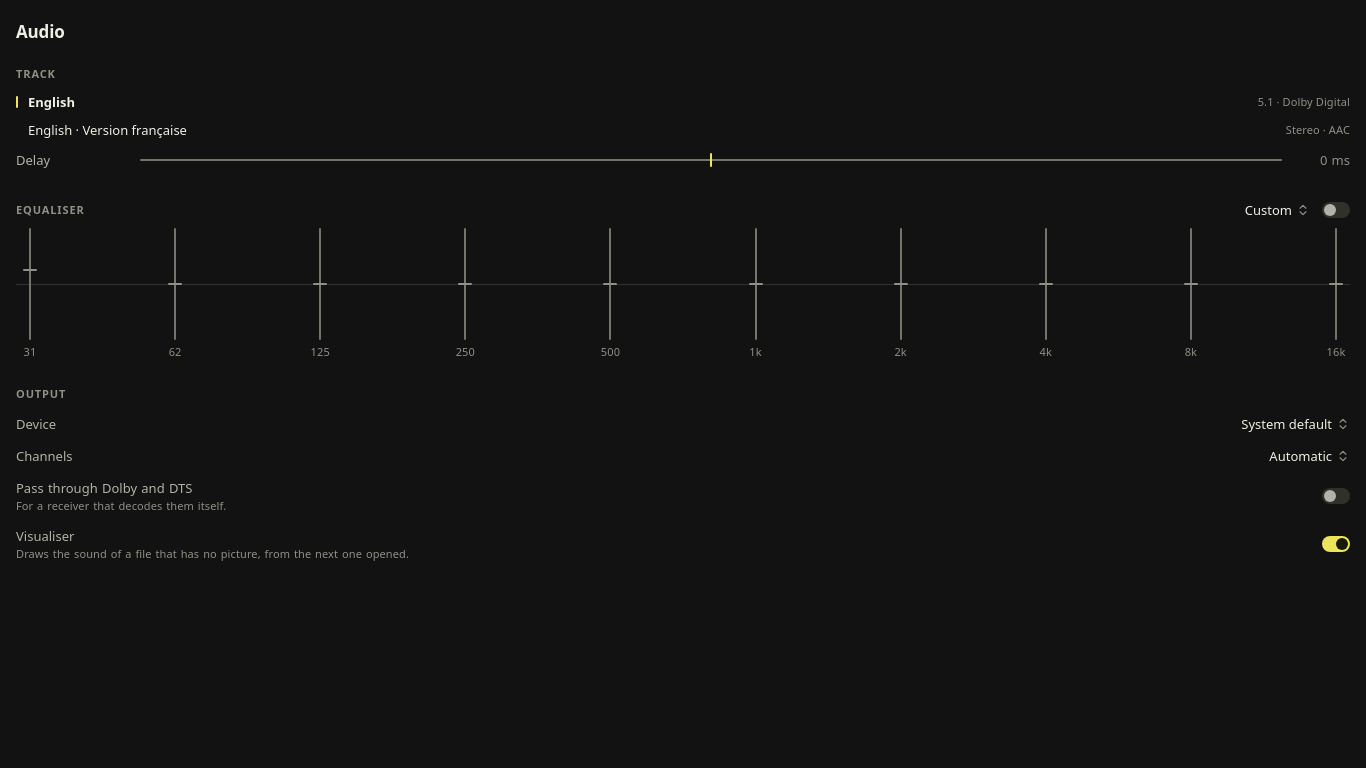
Scenario: the Equaliser group › switches on and off, keeping its gains
Click the switch named "Equaliser": (1336, 210) [1322,202,1350,218]
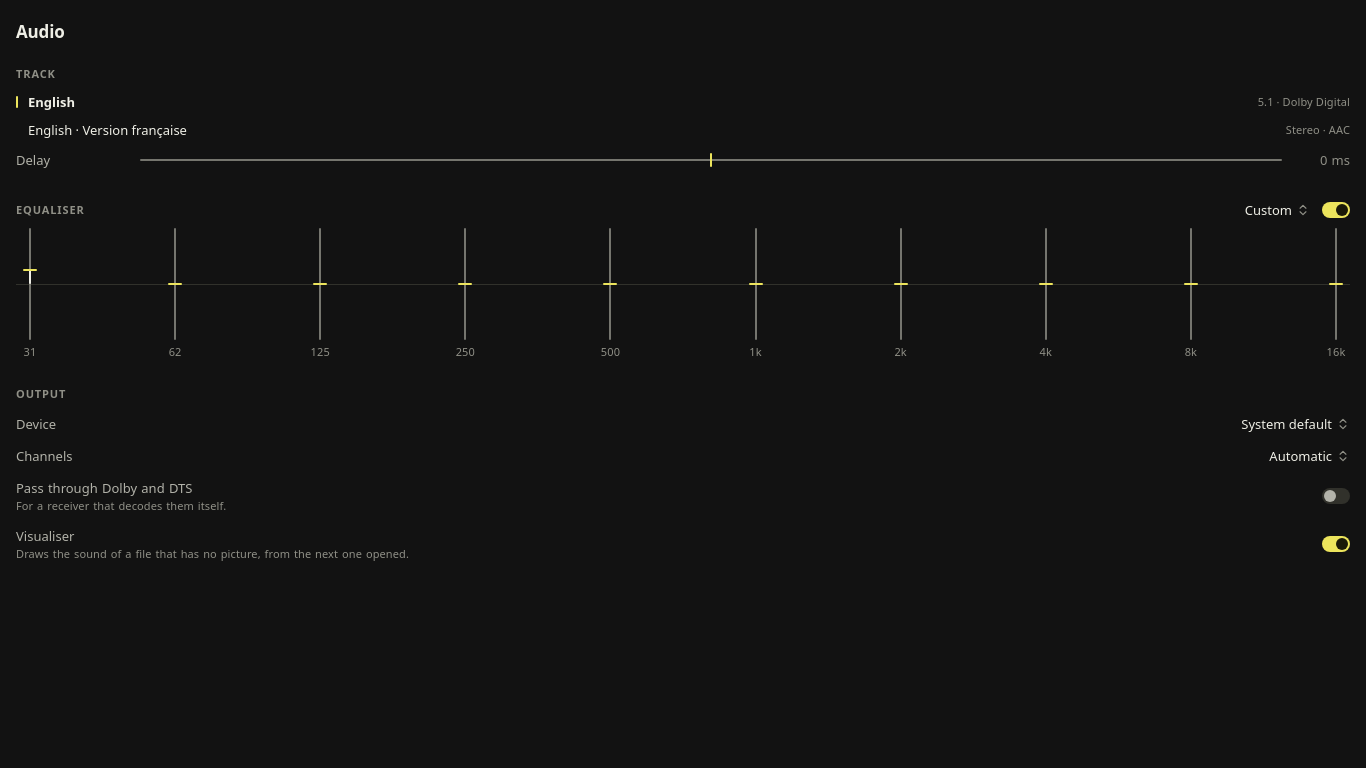
expect the slider named "31 hertz" does not have class "bg-ink-3": met, box [23,269,37,271]
